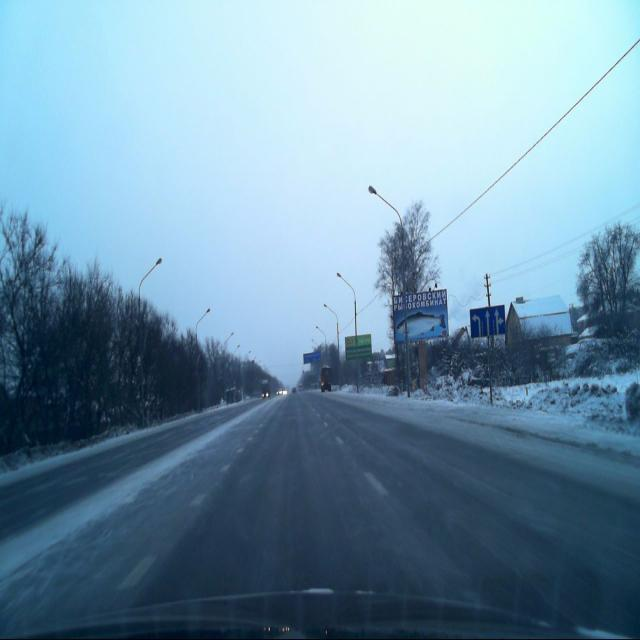object: (487, 340, 494, 405)
road sign: (470, 306, 505, 336)
